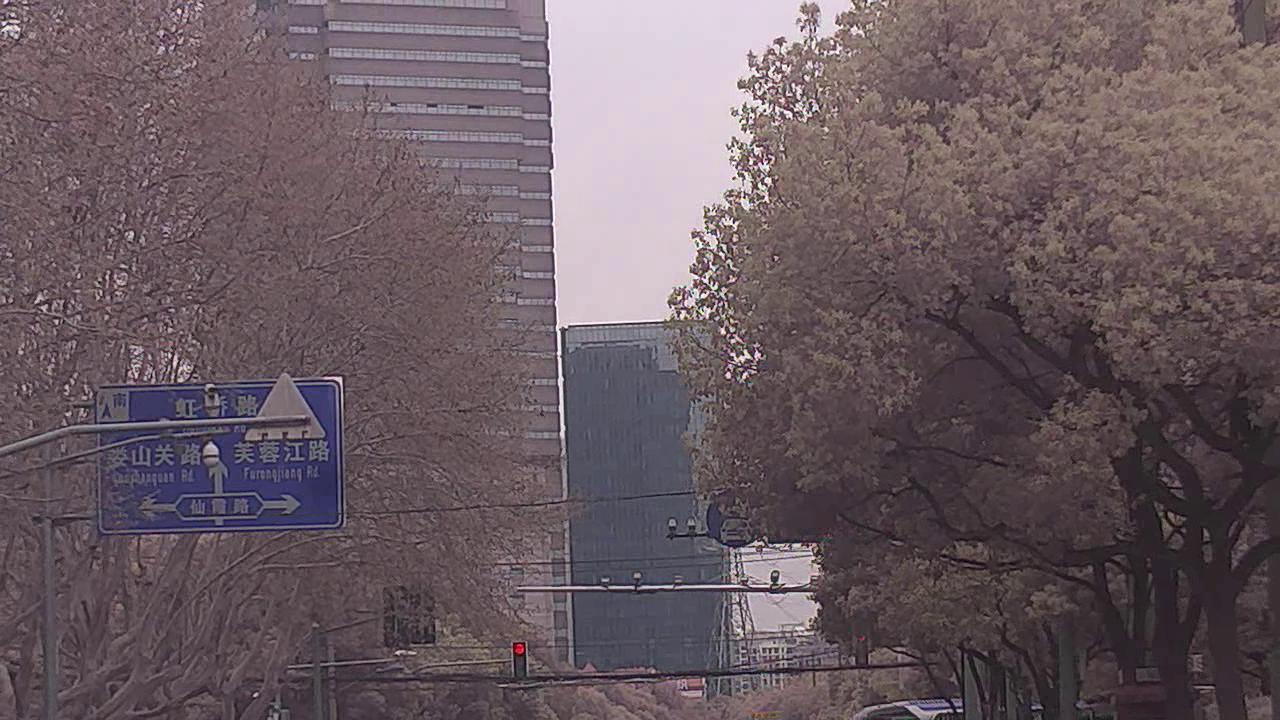traffic_light: (514, 641, 529, 676)
